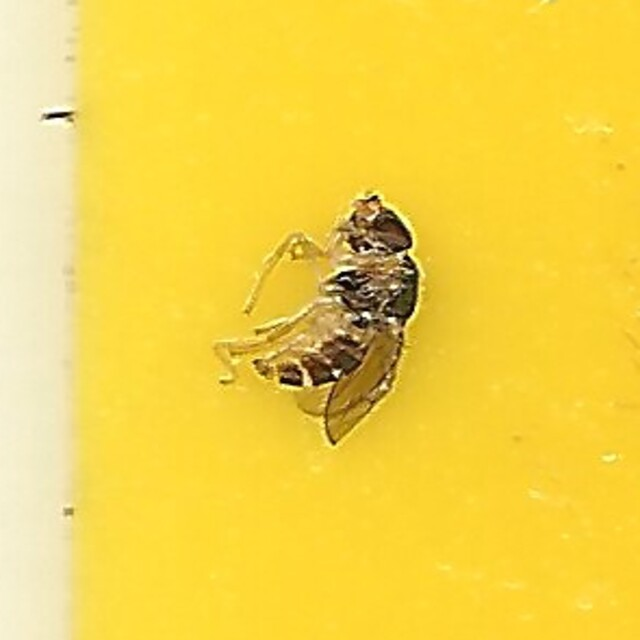Brachycera: (217, 190, 423, 450)
